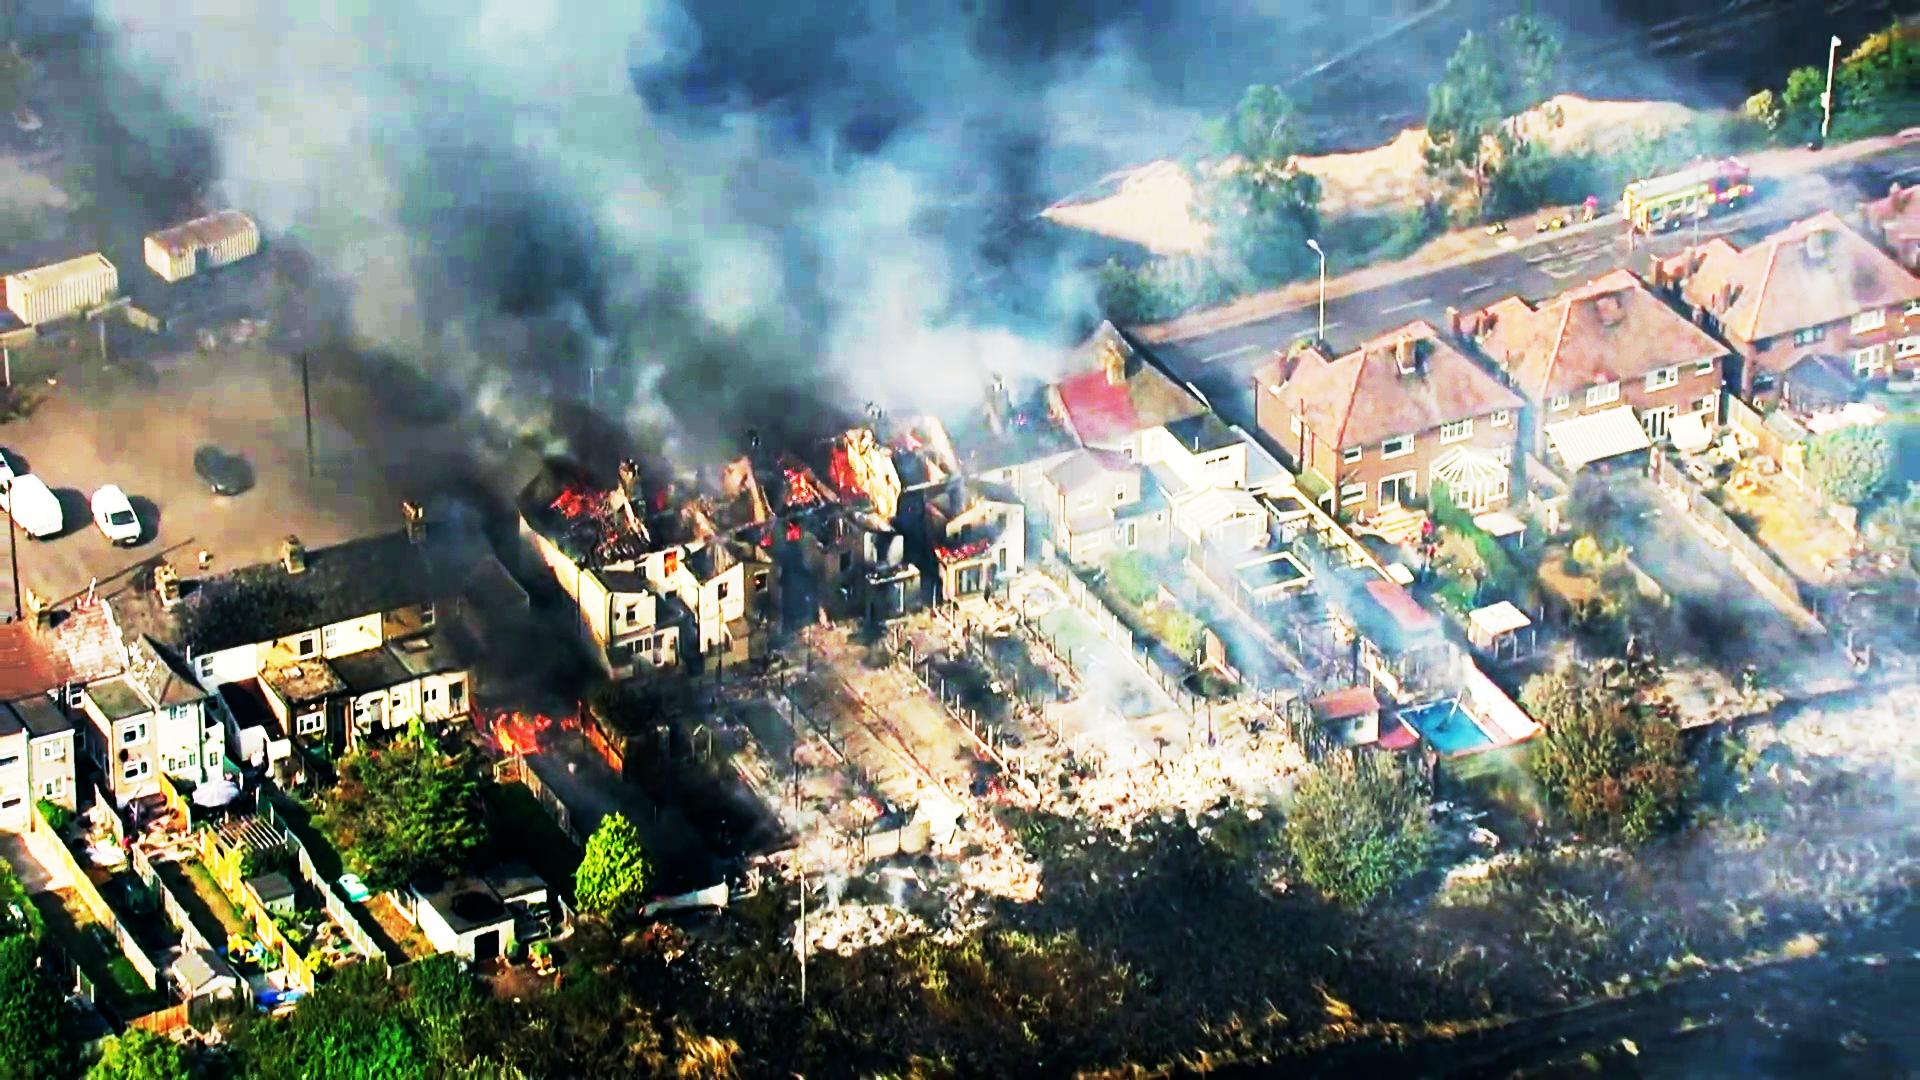fire: (473, 691, 589, 761)
smoke: (495, 65, 960, 382), (295, 59, 628, 413)
